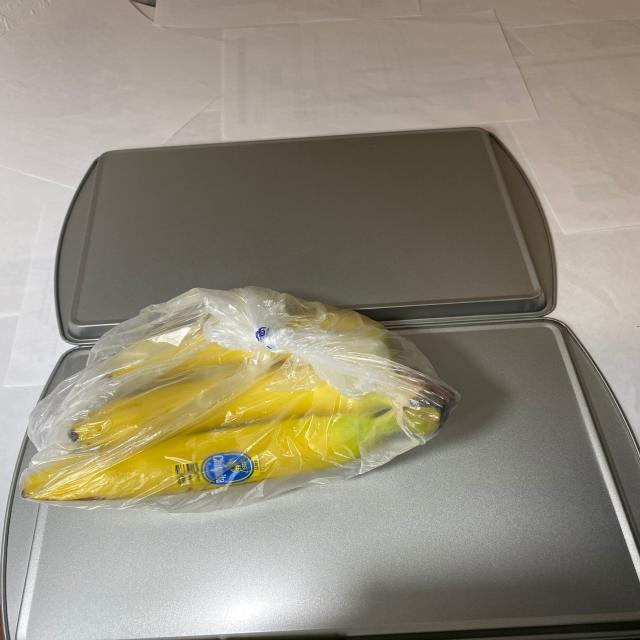banana: (17, 294, 457, 521)
